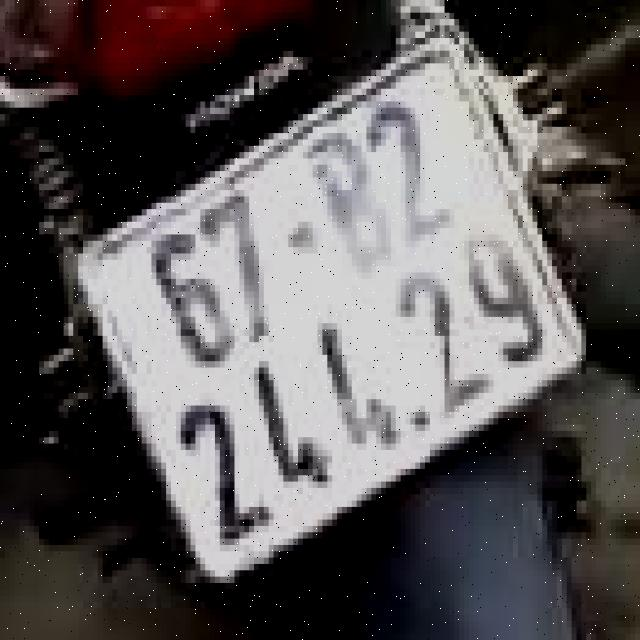2: (378, 252, 503, 424), (166, 377, 283, 557), (357, 87, 465, 256)
4: (307, 309, 407, 465), (244, 341, 339, 503)
6: (136, 219, 247, 380)
7: (197, 183, 299, 347)
9: (449, 220, 559, 377)
B: (298, 119, 406, 286)
